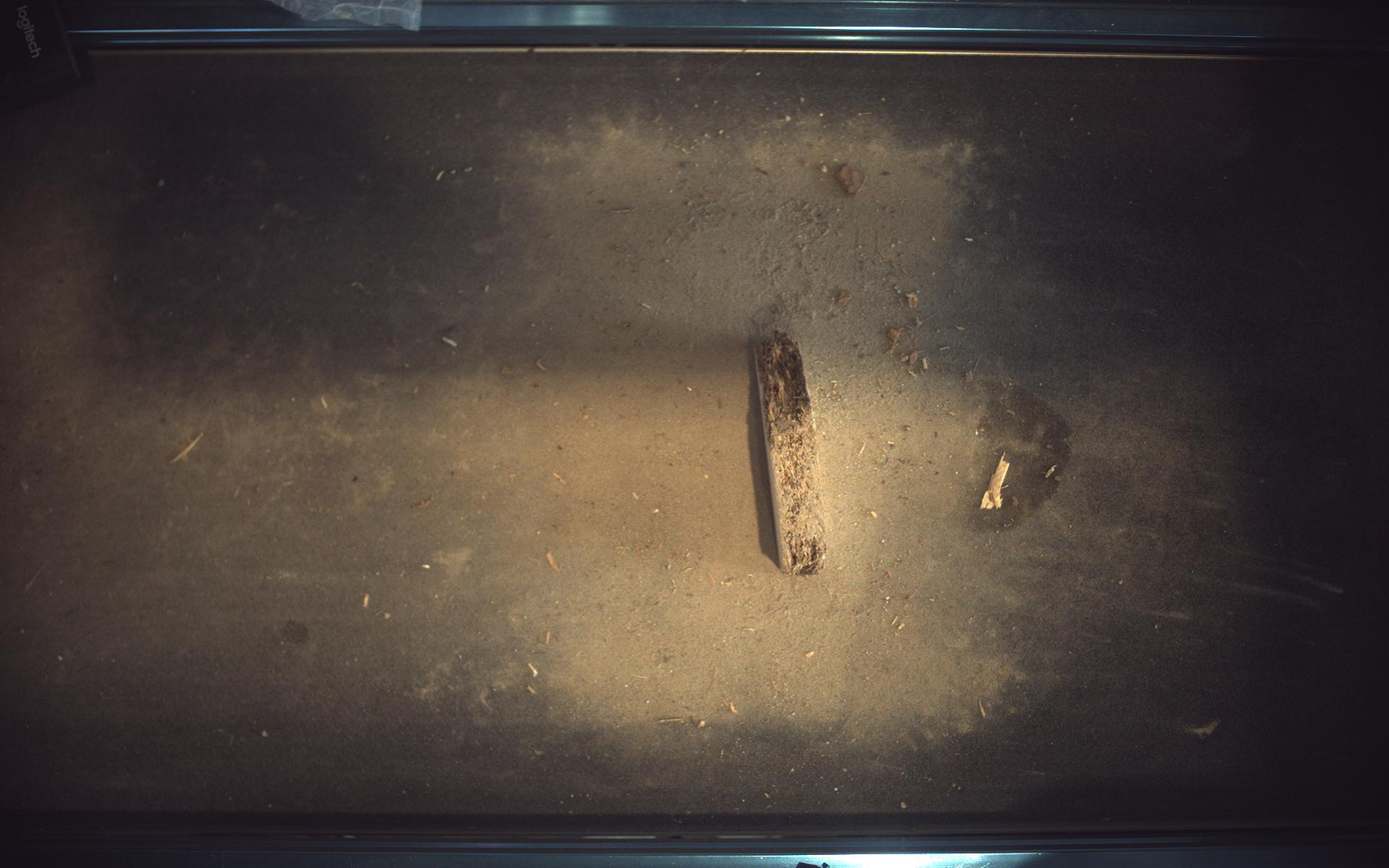wood: (755, 331, 827, 575)
